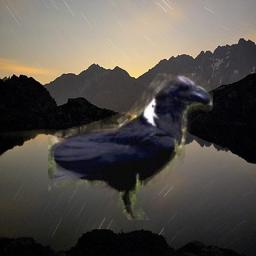Crow: (48, 73, 213, 220)
